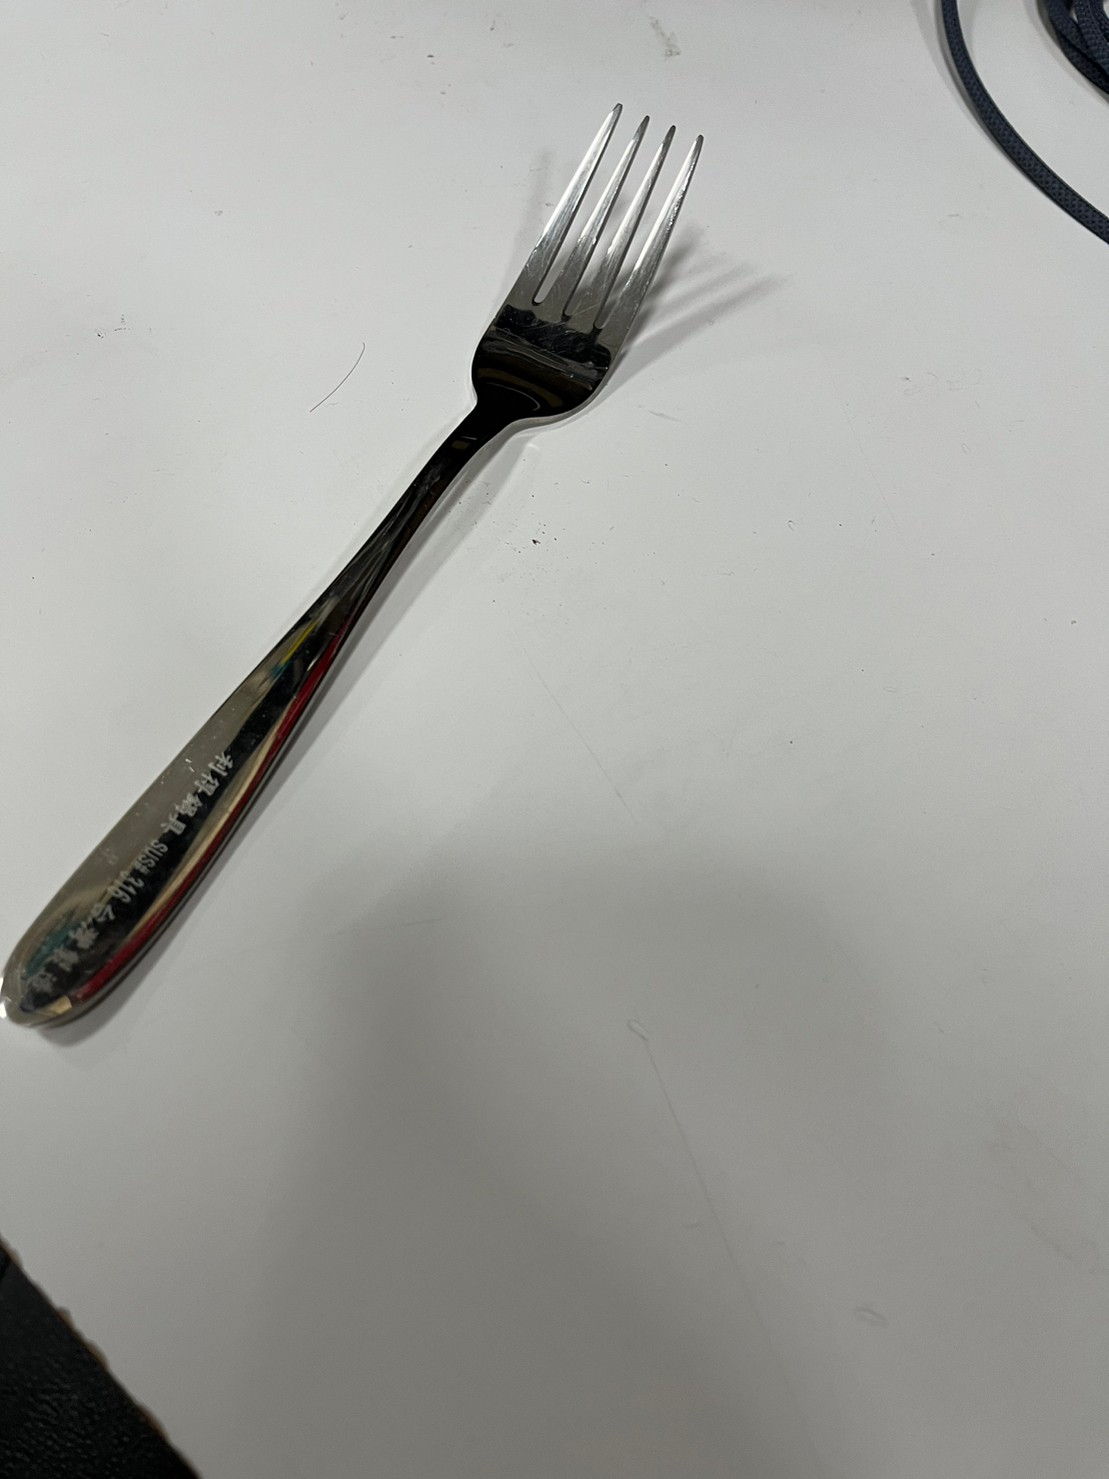fork: (3, 89, 732, 1066)
